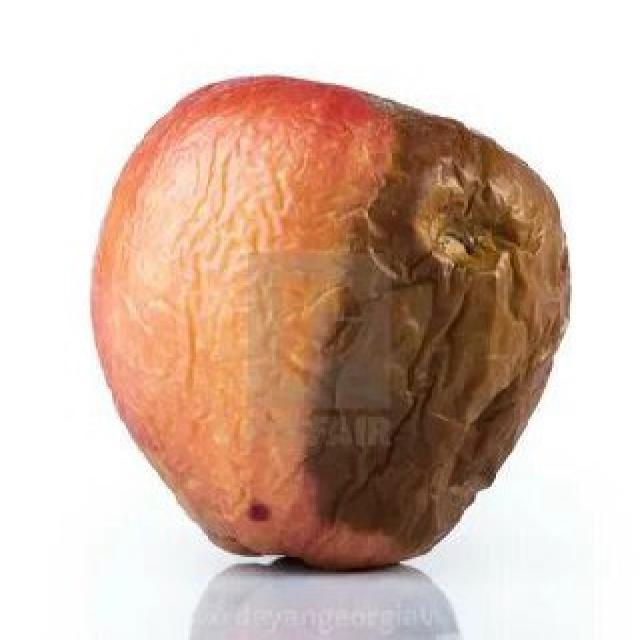Rotten: (100, 82, 552, 562)
